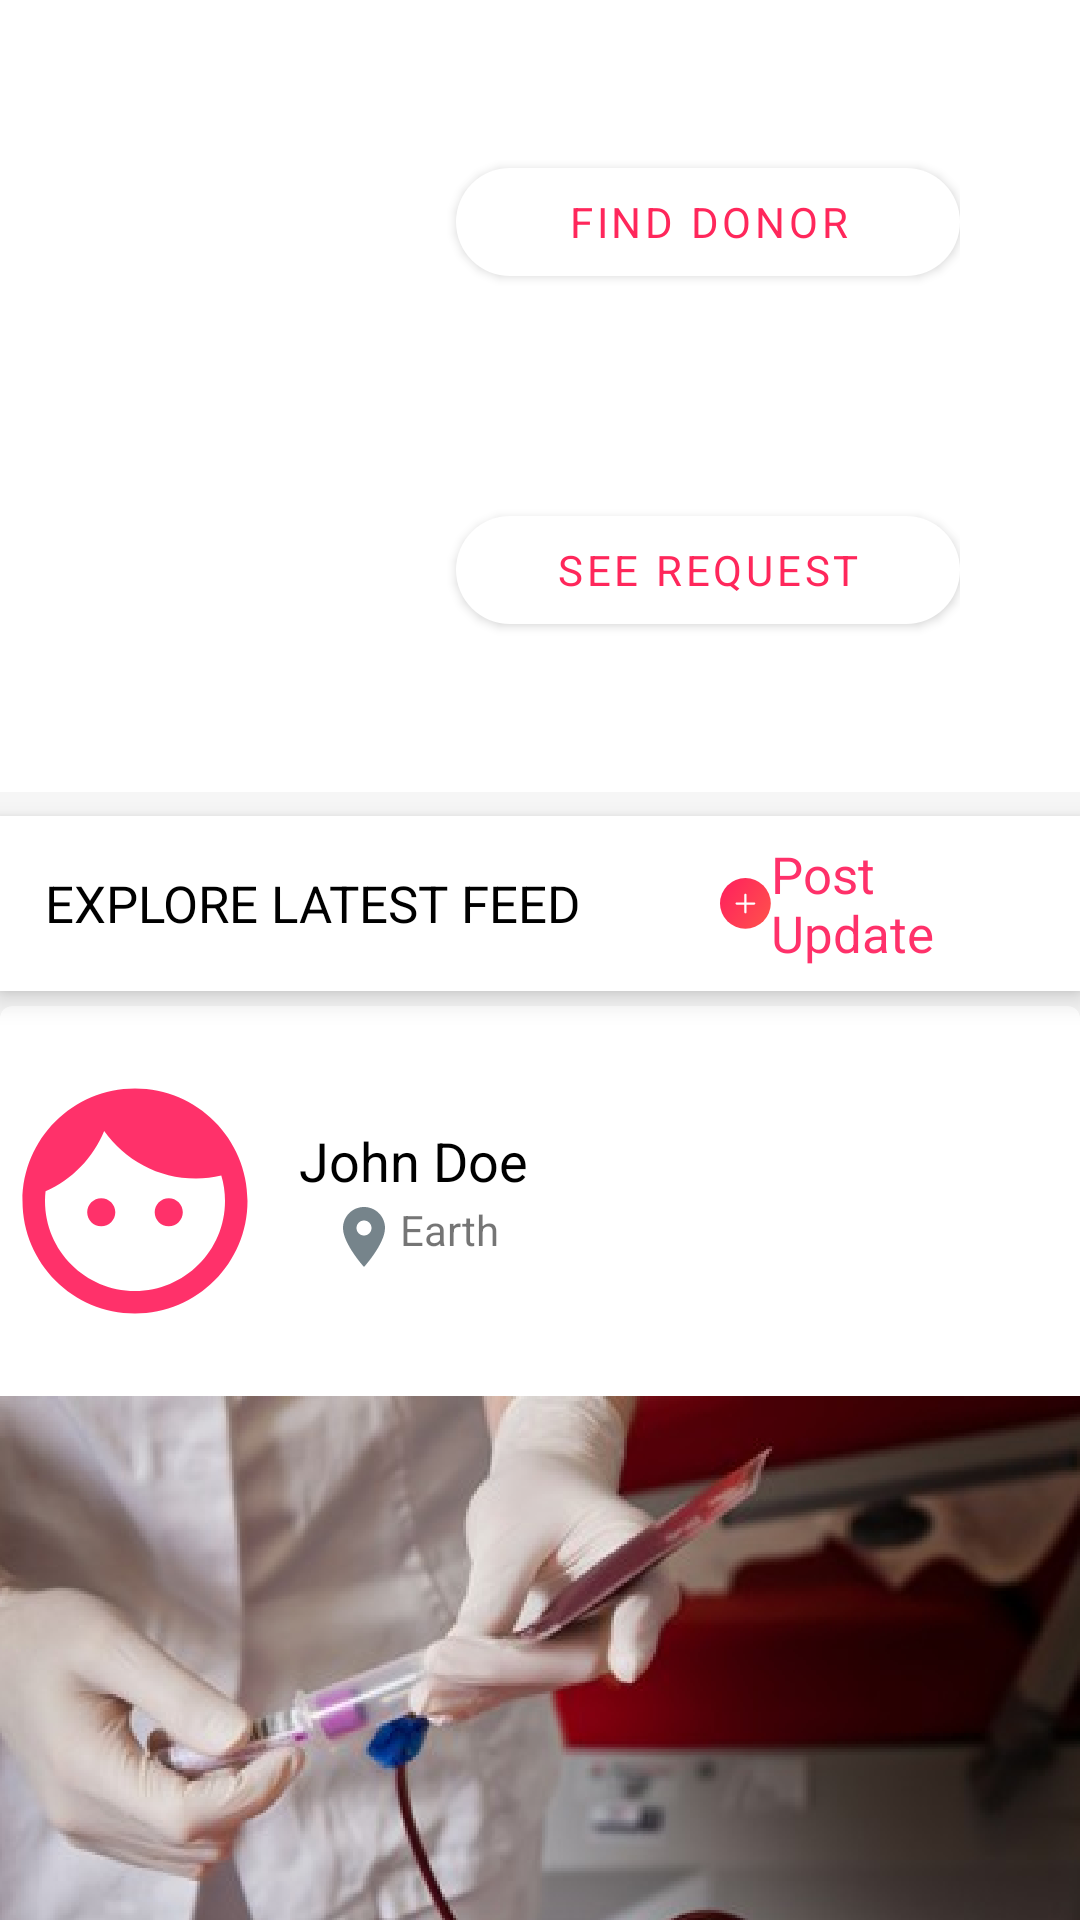

Icon click points for this 1080px×1920px phone screenshot, format (x=x, y=y):
face: (x=135, y=1201)
